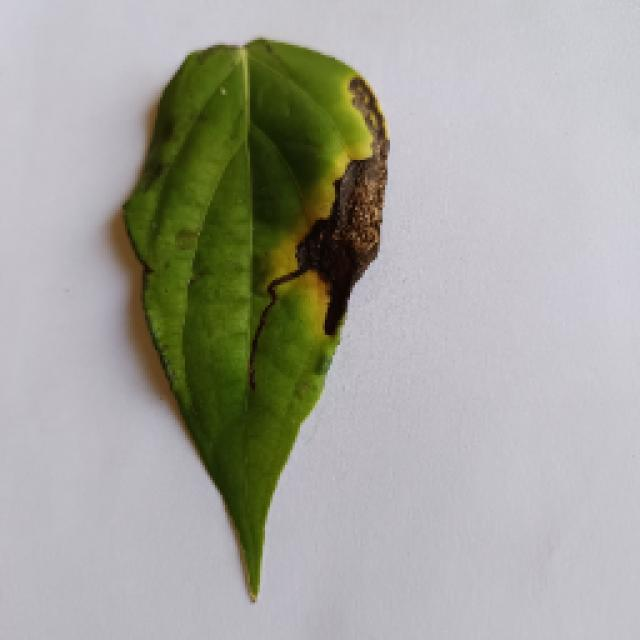footrot: (105, 40, 397, 600)
